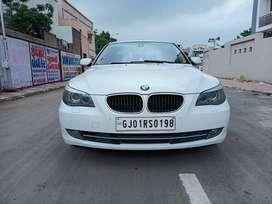GJ01RS0198: (115, 116, 174, 129)
